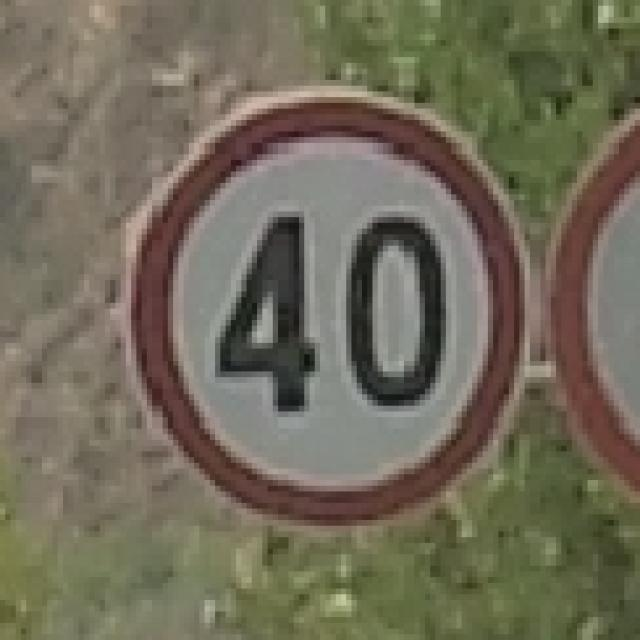speed limit 40: (127, 89, 524, 524)
